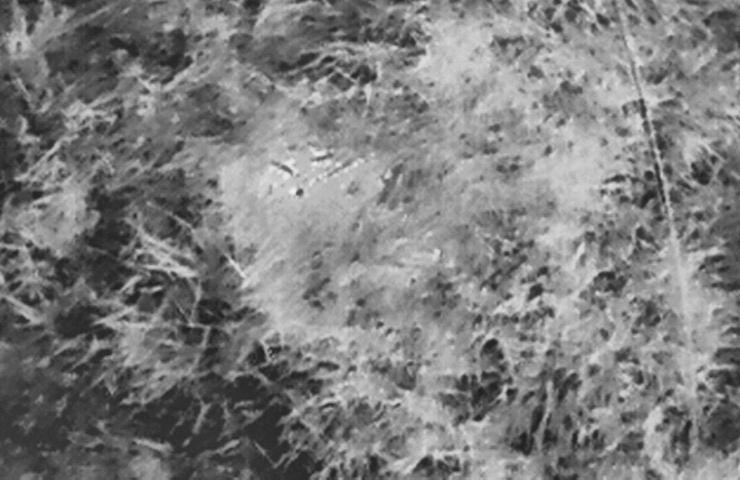landmines: (262, 141, 387, 238)
